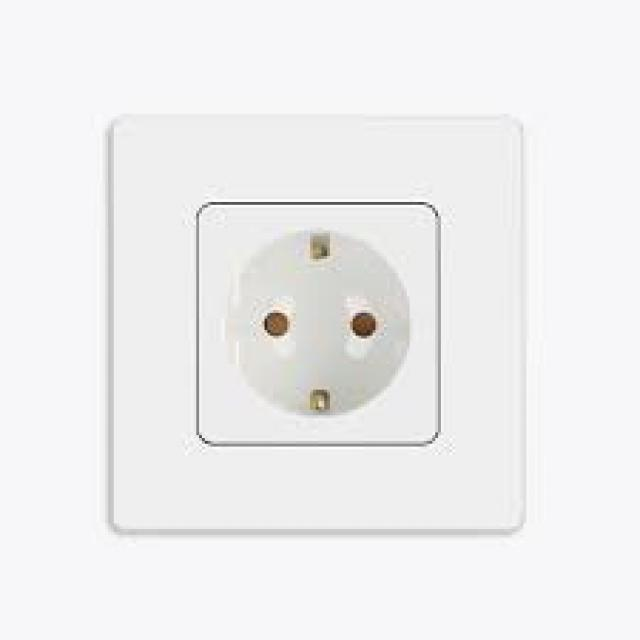typeb: (72, 72, 554, 576)
